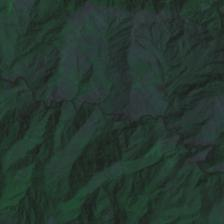landslides: (133, 90, 145, 108), (27, 101, 41, 116), (37, 101, 49, 116), (119, 107, 132, 118), (153, 19, 162, 33), (17, 112, 30, 120)
